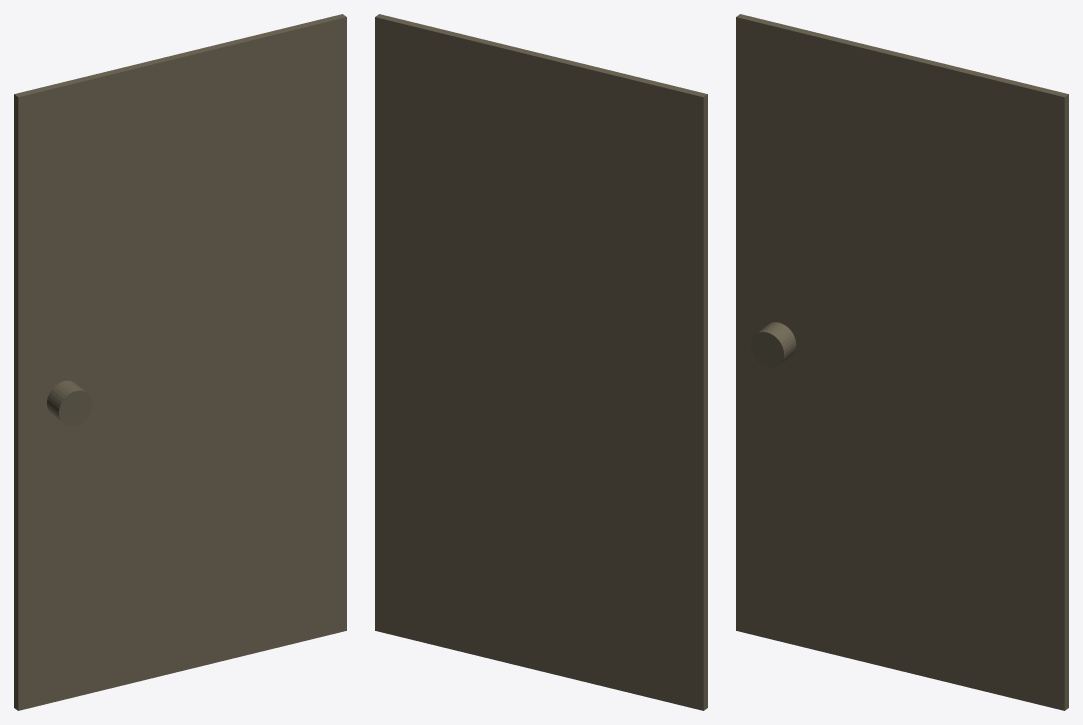
The picture shows the model from 3 angles, left to right: view 1: azimuth 30°, elevation 25°; view 2: azimuth 150°, elevation 25°; view 3: azimuth 330°, elevation 25°; orthographic projection.
Parts seen in each view (by area): view 1: Cube; view 2: Cube; view 3: Cube.
Boxes of the visible parts, x1,y1,x2,y2 form: Cube: [14, 14, 346, 710]; Cube: [375, 14, 707, 710]; Cube: [736, 14, 1068, 710].
Bounding box in the file's own units: 407 × 726 × 37.9.
